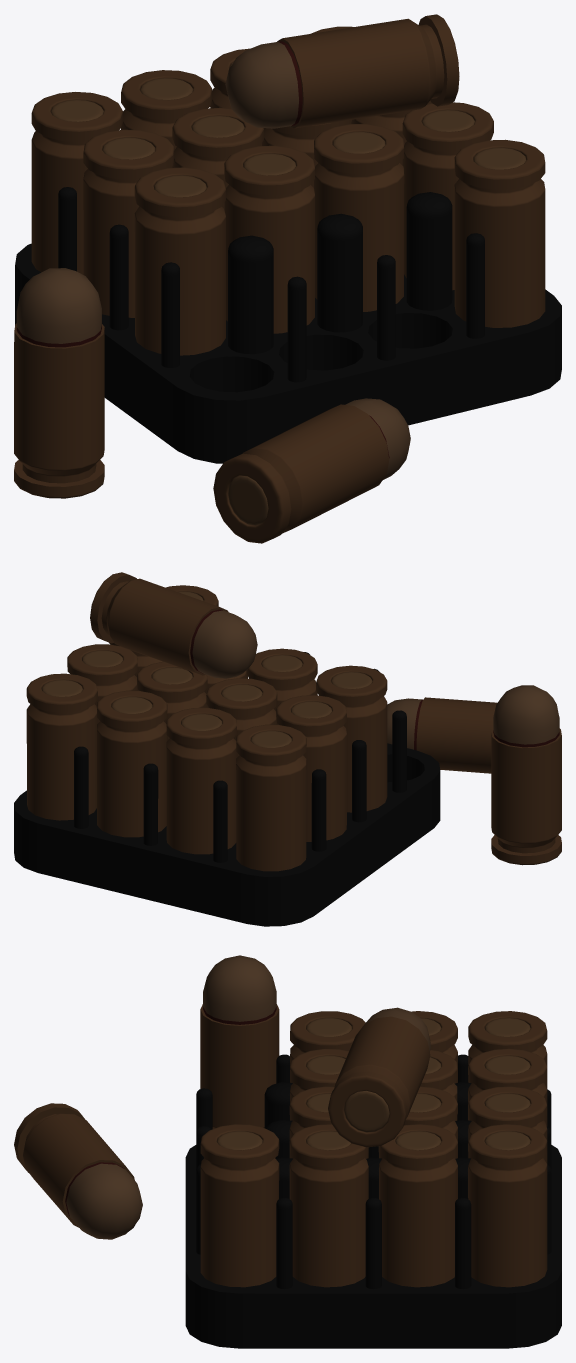
3 renders of one model, top to bottom at view 1: azimuth 30°, elevation 25°; view 2: azimuth 150°, elevation 25°; view 3: azimuth 270°, elevation 25°, orthographic. The views are drawn at different scales.
Parts seen in each view (by area): view 1: box, shell_casing002, shell_casing006, shell_casing014, shell_casing004, shell_casing, shell_casing012, shell_casing010, shell_casing030, shell_casing022, shell_casing008, bullet (+7 smaller); view 2: box, shell_casing030, shell_casing028, shell_casing024, shell_casing026, shell_casing, shell_casing004, shell_casing014, shell_casing022, shell_casing002, bullet002, bullet (+6 smaller); view 3: box, shell_casing024, shell_casing006, shell_casing016, shell_casing008, shell_casing004, shell_casing, shell_casing002, bullet001, bullet, shell_casing028, shell_casing026 (+8 smaller).
Boxes of the visible parts, left/top/right/bottom form: box: left=15, top=187, right=561, bottom=463; shell_casing002: left=213, top=404, right=389, bottom=543; shell_casing006: left=454, top=139, right=545, bottom=327; shell_casing014: left=134, top=167, right=225, bottom=355; shell_casing004: left=277, top=14, right=459, bottom=128; shell_casing: left=14, top=323, right=104, bottom=498; shell_casing012: left=224, top=145, right=314, bottom=333; shell_casing010: left=314, top=124, right=404, bottom=311; shell_casing030: left=31, top=92, right=122, bottom=274; shell_casing022: left=83, top=129, right=174, bottom=317; shell_casing008: left=402, top=102, right=493, bottom=290; bullet: left=16, top=268, right=101, bottom=347; box: left=14, top=652, right=440, bottom=926; shell_casing030: left=236, top=724, right=306, bottom=871; shell_casing028: left=166, top=707, right=236, bottom=854; shell_casing024: left=26, top=673, right=97, bottom=820; shell_casing026: left=97, top=690, right=167, bottom=837; shell_casing: left=491, top=728, right=561, bottom=865; shell_casing004: left=90, top=572, right=228, bottom=675; shell_casing014: left=316, top=665, right=387, bottom=812; shell_casing022: left=276, top=695, right=346, bottom=841; shell_casing002: left=416, top=697, right=497, bottom=773; bullet002: left=190, top=609, right=257, bottom=678; bullet: left=493, top=685, right=559, bottom=747; box: left=185, top=1054, right=561, bottom=1348; shell_casing024: left=468, top=1124, right=547, bottom=1287; shell_casing006: left=200, top=1124, right=279, bottom=1287; shell_casing016: left=379, top=1124, right=457, bottom=1287; shell_casing008: left=289, top=1124, right=368, bottom=1287; shell_casing004: left=328, top=1016, right=430, bottom=1147; shell_casing: left=200, top=1004, right=279, bottom=1128; shell_casing002: left=14, top=1103, right=134, bottom=1227; bullet001: left=65, top=1162, right=142, bottom=1239; bullet: left=203, top=955, right=276, bottom=1024; shell_casing028: left=468, top=1048, right=547, bottom=1126; shell_casing026: left=468, top=1086, right=547, bottom=1163.
Size of the model in its own units: 65.81 by 35.15 by 67.51.
